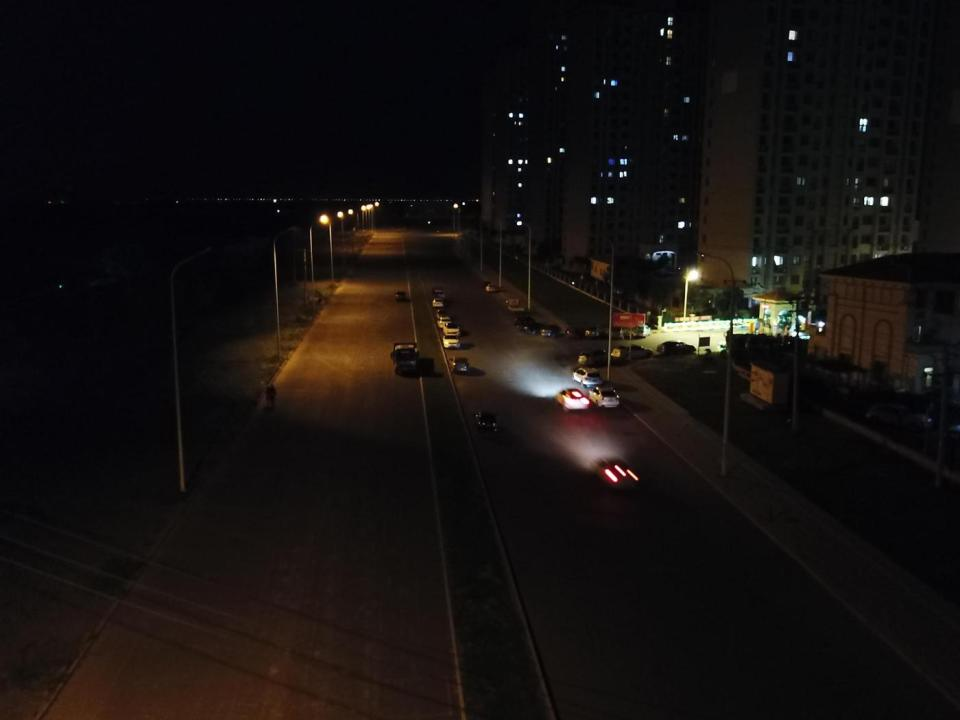car: (594, 458, 640, 490), (867, 400, 908, 428), (556, 388, 590, 412), (910, 401, 937, 430), (588, 386, 620, 408), (611, 344, 653, 360), (571, 367, 603, 387), (657, 340, 696, 355), (578, 350, 613, 366), (474, 412, 498, 432), (448, 357, 470, 373), (585, 324, 606, 338), (524, 322, 546, 335), (632, 323, 652, 337), (540, 325, 562, 337), (442, 322, 460, 336), (610, 326, 629, 339), (443, 334, 460, 348), (565, 326, 583, 338), (437, 316, 452, 329), (515, 317, 536, 326), (437, 309, 449, 319), (432, 298, 443, 306), (396, 291, 405, 300), (486, 284, 496, 292)
truck: (390, 342, 420, 374), (506, 299, 524, 315)
